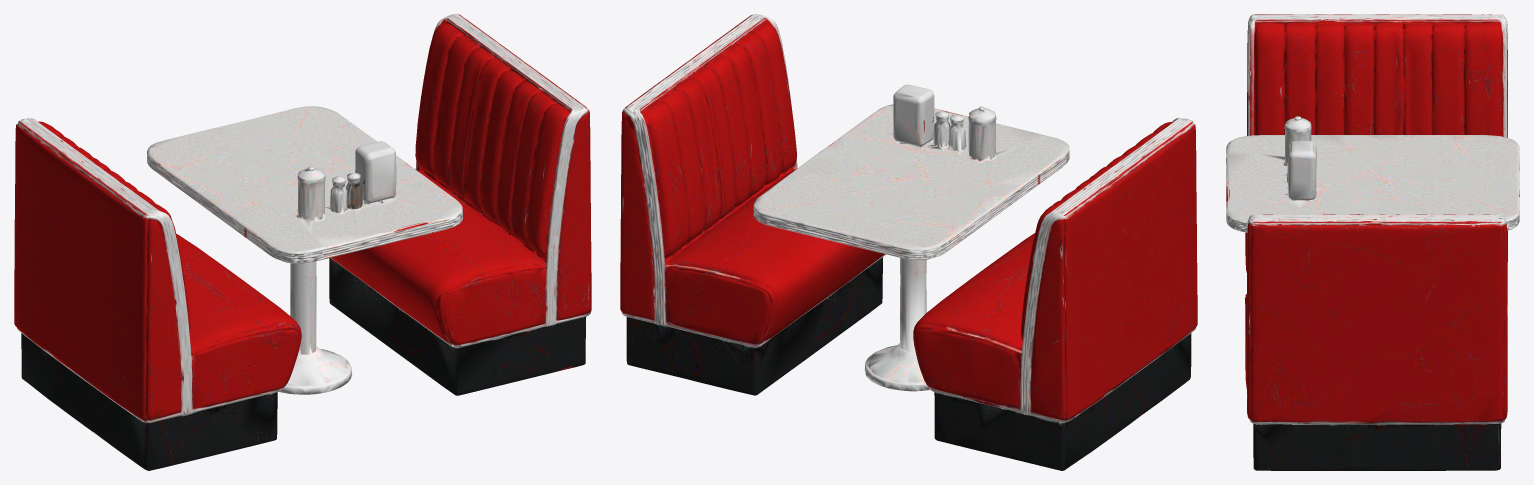
File: booth.glb
3 renders of one model, left to right at view 1: azimuth 30°, elevation 25°; view 2: azimuth 150°, elevation 25°; view 3: azimuth 270°, elevation 25°, orthographic. The views are drawn at different scales.
Bounding box in the file's own units: 1.9 × 1.04 × 1.1.
1 material, 1 textured.
